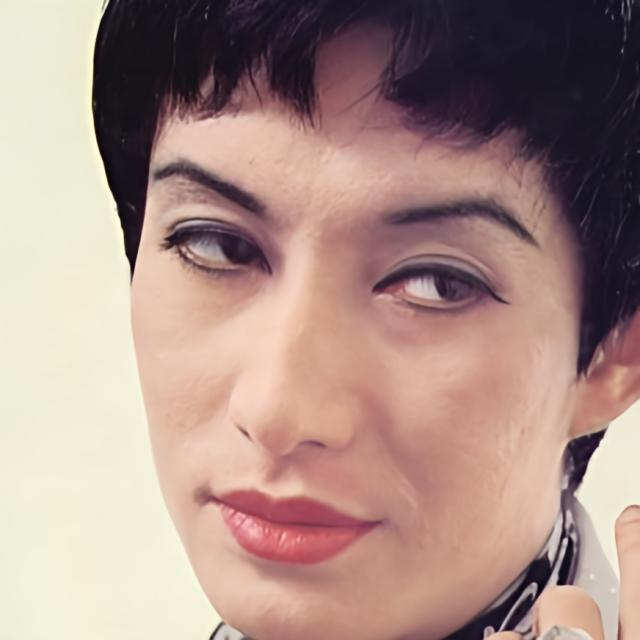content: (126, 12, 584, 640)
